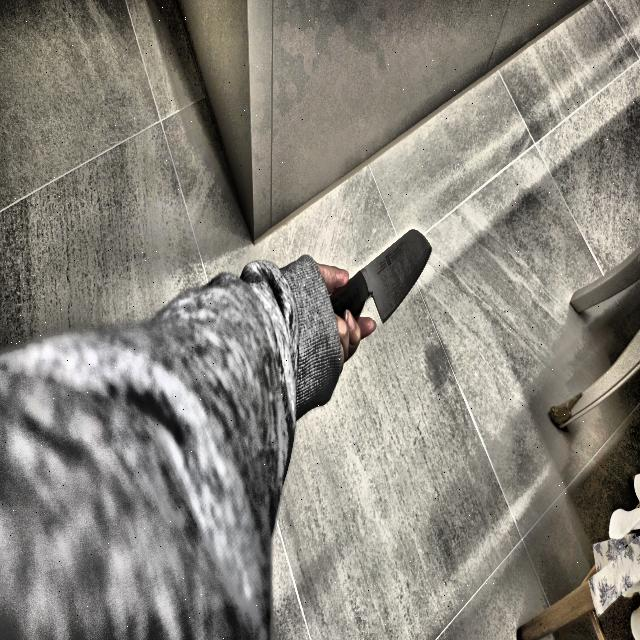knife: (309, 230, 433, 324)
